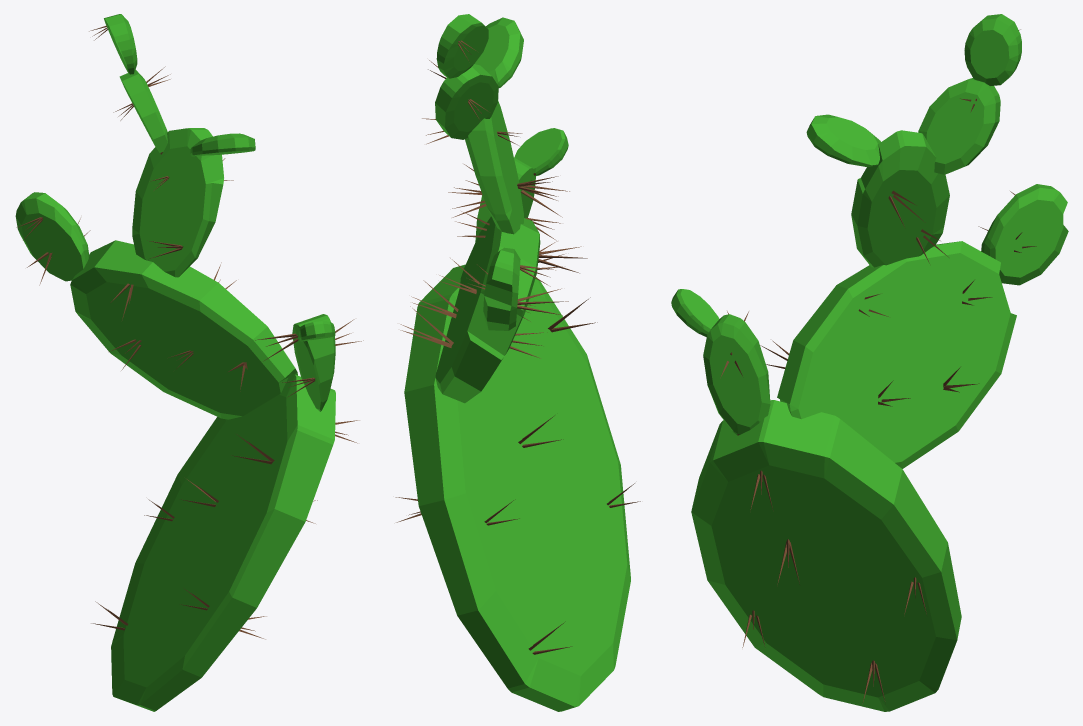
File: cactus2.fbx
3 views of the same model, side by side, from view 1: azimuth 30°, elevation 25°; view 2: azimuth 150°, elevation 25°; view 3: azimuth 270°, elevation 25° (orthographic). The views are drawn at different scales.
Visible parts, largest first — view 1: cactus slim; view 2: cactus slim; view 3: cactus slim.
Part boxes in pixels (x1=…): cactus slim: x1=15, y1=14, x2=363, y2=711; cactus slim: x1=395, y1=14, x2=640, y2=711; cactus slim: x1=671, y1=14, x2=1068, y2=711.
Size of the model in its own units: 241 by 638 by 321.
